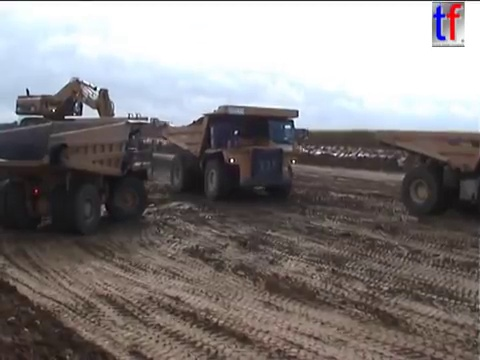excavator: (13, 75, 119, 144)
truck: (1, 115, 170, 236), (155, 103, 313, 203), (378, 129, 480, 218)
